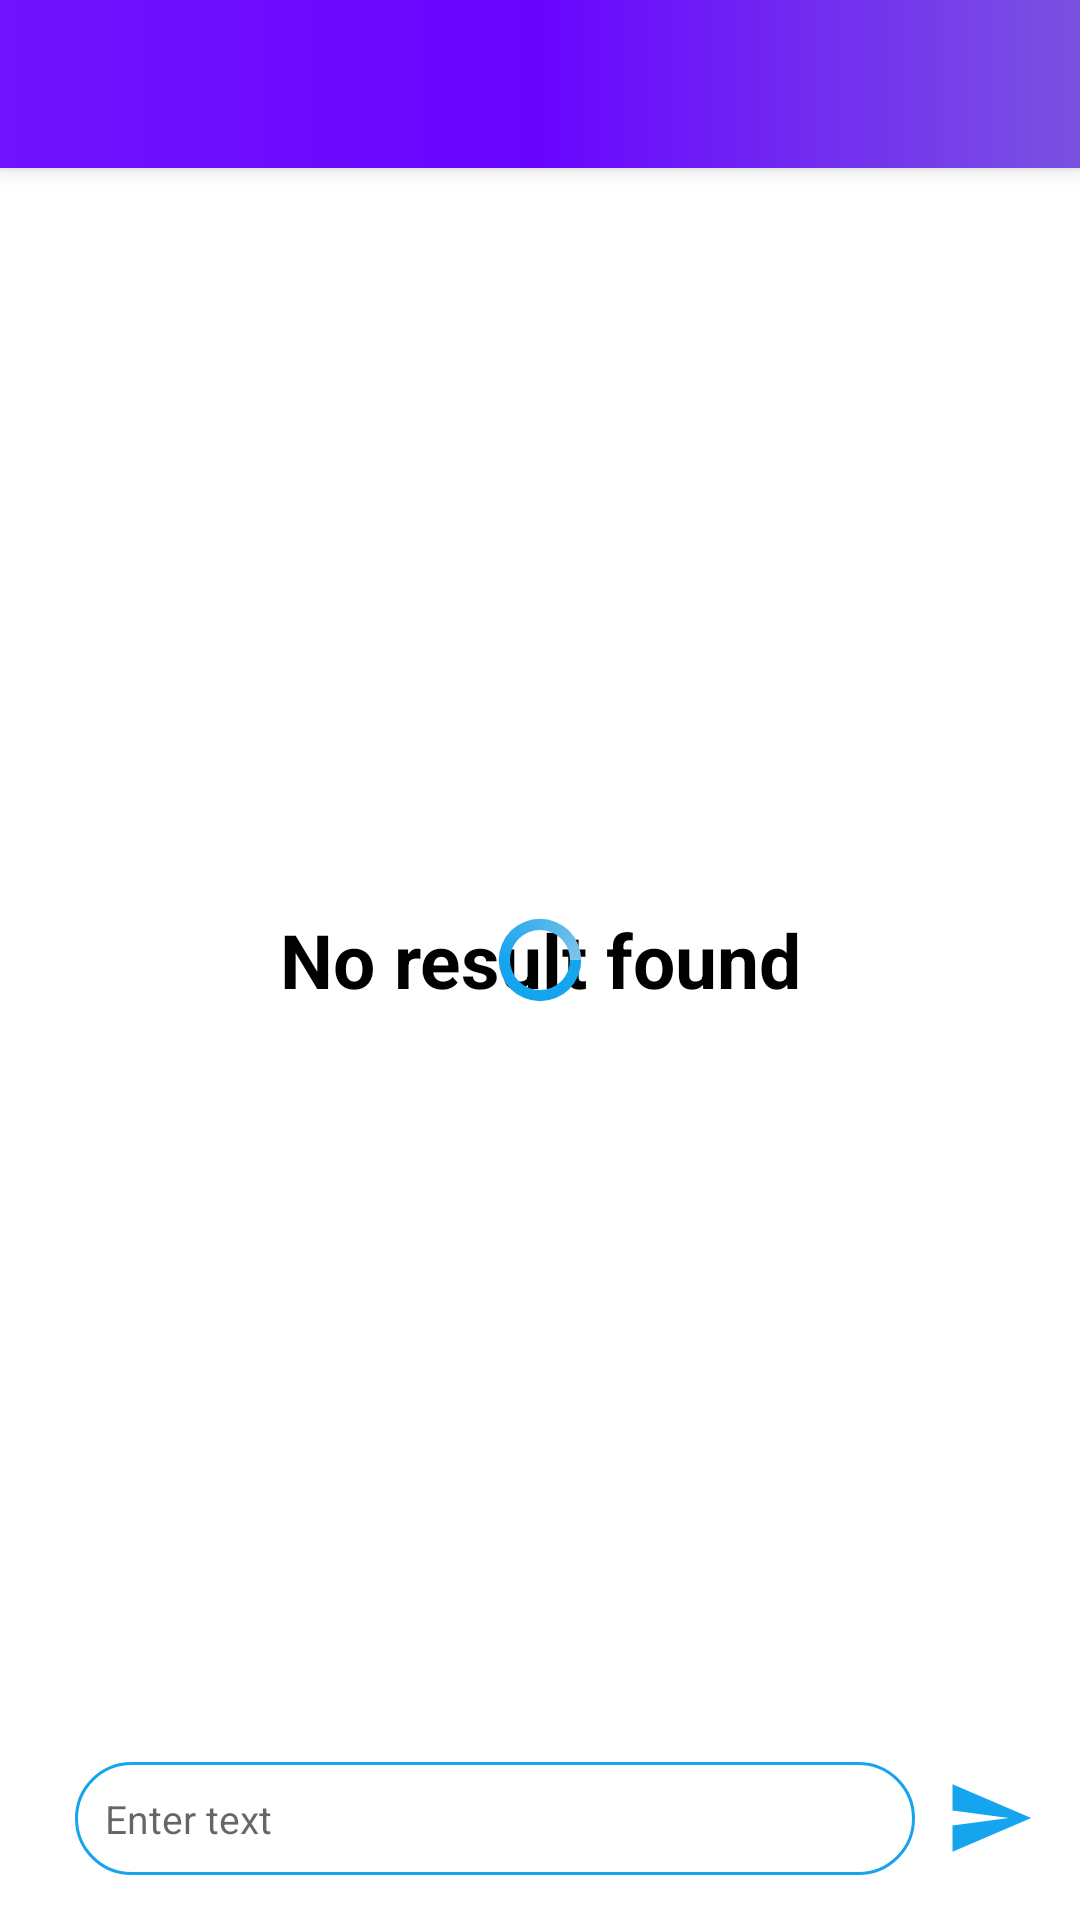

Icons on this 1080x1920 Android screen, each with the point to tap as point (x, y):
send: point (991, 1818)
